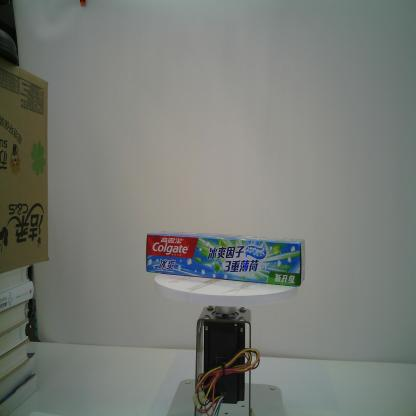Personal Hygiene: (146, 231, 306, 287)
